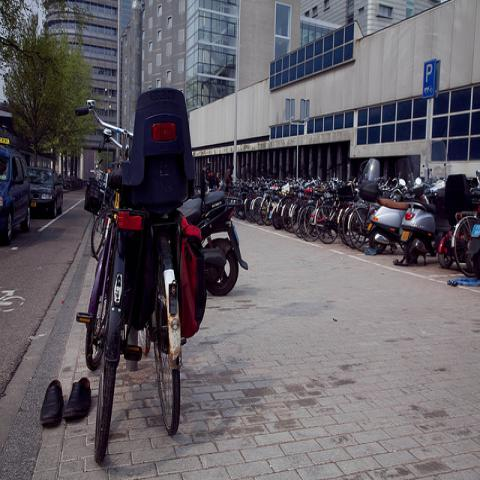car: (2, 144, 32, 246), (28, 165, 64, 217)
motorcycle: (176, 189, 249, 297), (367, 178, 433, 254), (400, 193, 451, 265), (437, 201, 478, 269), (466, 216, 480, 280), (354, 158, 378, 195)
